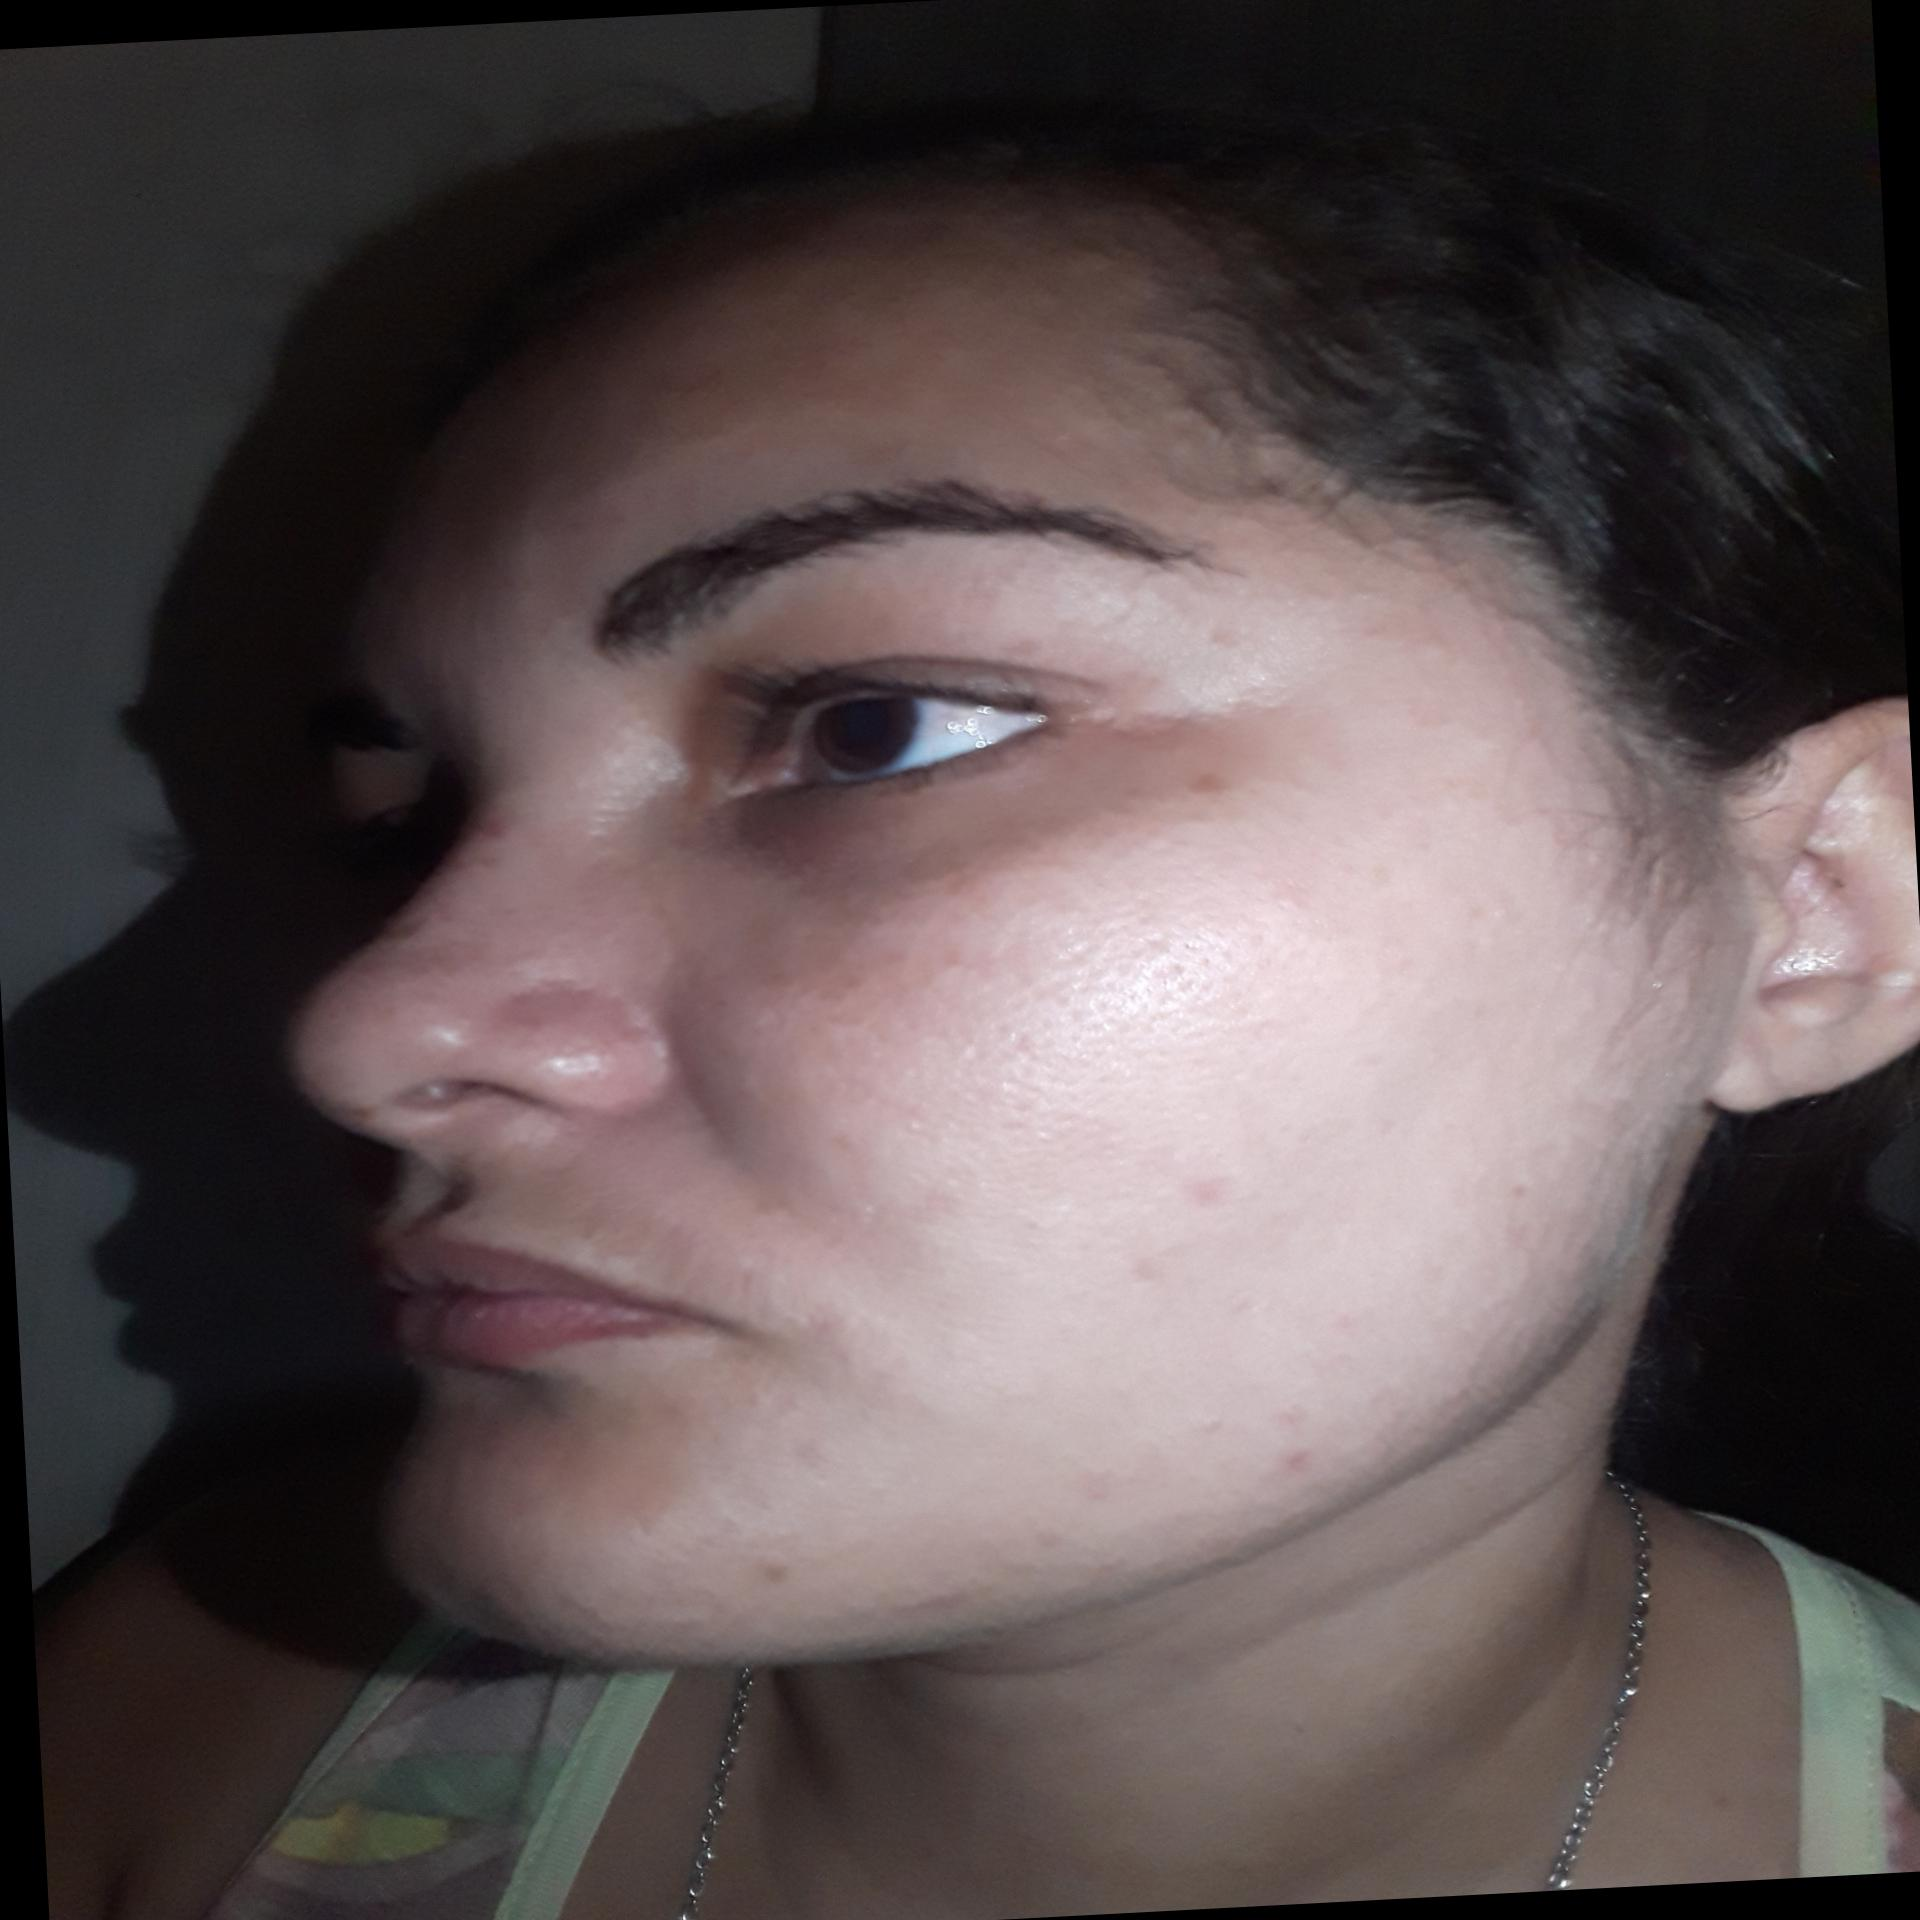Acne: (744, 1537, 805, 1591), (1257, 1438, 1333, 1479), (1173, 1169, 1238, 1215), (791, 1426, 847, 1479), (1118, 1250, 1173, 1299), (1259, 1391, 1319, 1429), (1199, 617, 1254, 659), (1182, 756, 1225, 793), (464, 809, 505, 847)
Englarged Pores: (965, 909, 1262, 1116)
